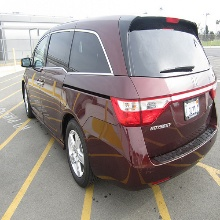no damage: (21, 14, 219, 191)
